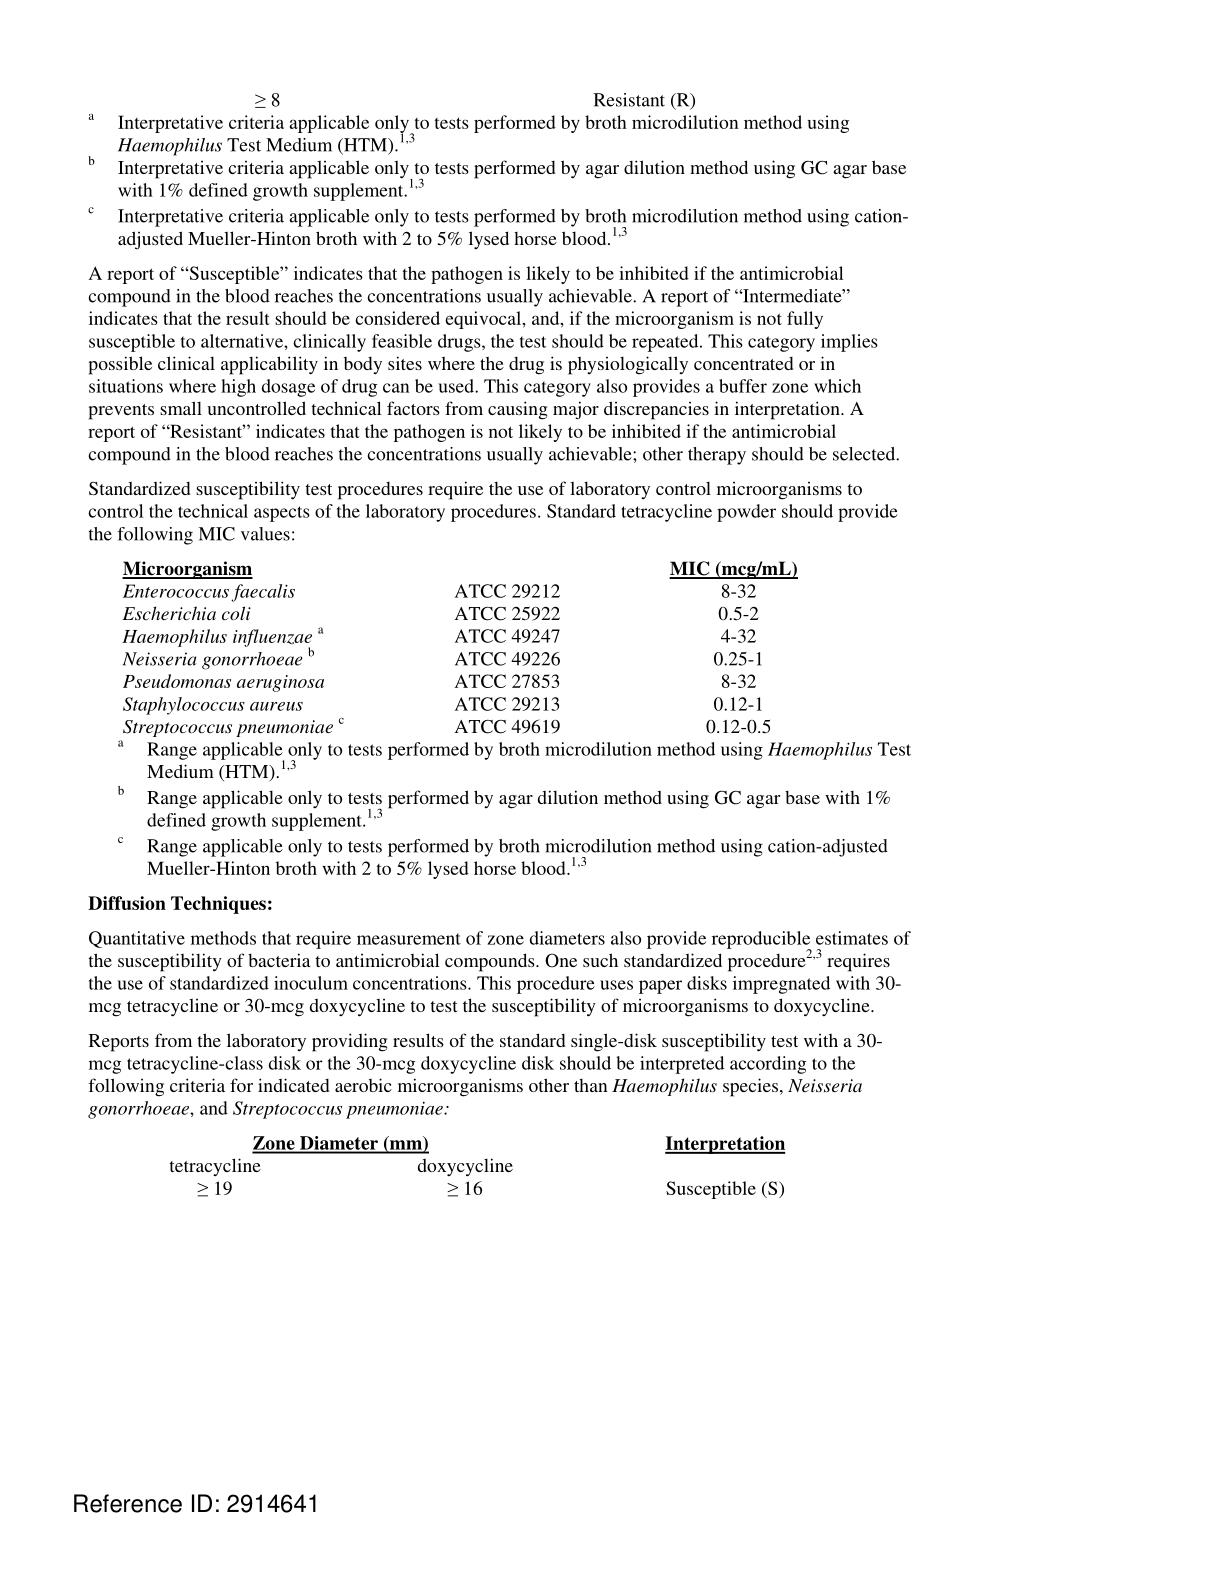nolines: (120, 554, 797, 739), (165, 1134, 795, 1203)
